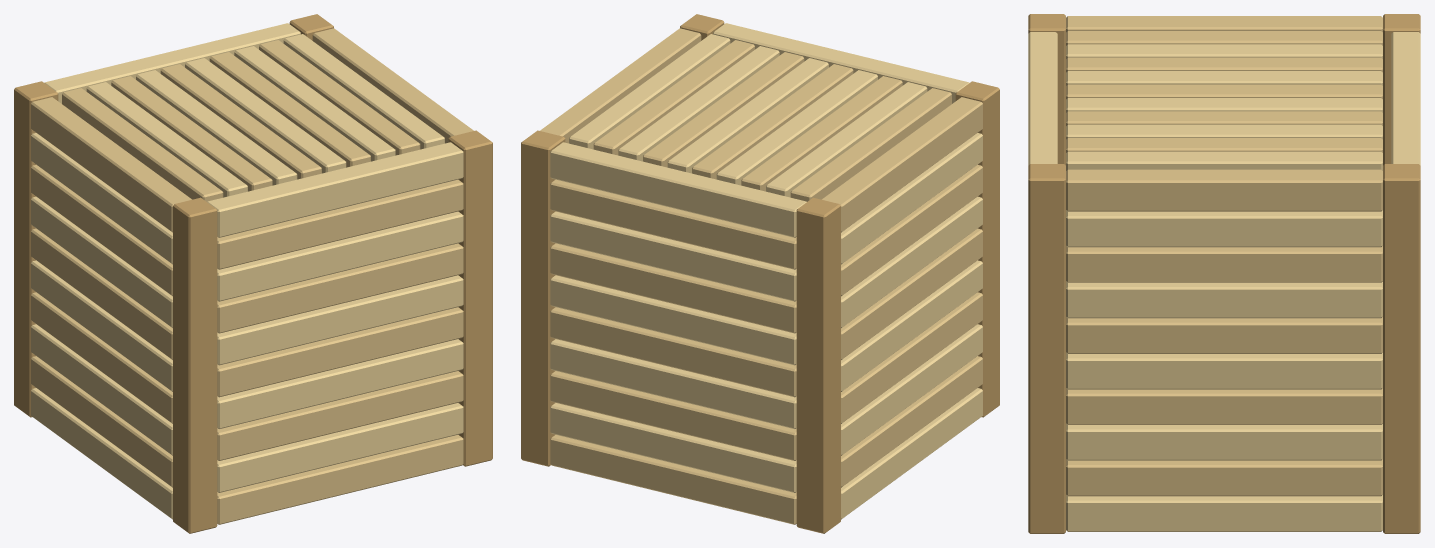
The model's file is FTF_Prop_WoodenCrate_5m_Cube.glb.
3 views of the same model, side by side, from view 1: azimuth 30°, elevation 25°; view 2: azimuth 150°, elevation 25°; view 3: azimuth 270°, elevation 25° (orthographic). The views are drawn at different scales.
Visible parts, largest first — view 1: Crate_BackFrontBack_0_1, Crate_BackFrontBack_1_1, Crate_CornerBatten; view 2: Crate_BackFrontBack_0_1, Crate_BackFrontBack_1_1, Crate_CornerBatten; view 3: Crate_BackFrontBack_1_1, Crate_BackFrontBack_0_1, Crate_CornerBatten.
Part boxes in pixels (x1,y1,x2,y2): Crate_BackFrontBack_0_1: (31,28,473,524); Crate_BackFrontBack_1_1: (31,23,463,519); Crate_CornerBatten: (14,14,492,533); Crate_BackFrontBack_0_1: (540,28,982,524); Crate_BackFrontBack_1_1: (550,23,982,519); Crate_CornerBatten: (521,14,999,533); Crate_BackFrontBack_1_1: (1028,32,1420,531); Crate_BackFrontBack_0_1: (1066,16,1382,496); Crate_CornerBatten: (1028,14,1420,533).
Bounding box in the file's own units: 5 × 5 × 5.
